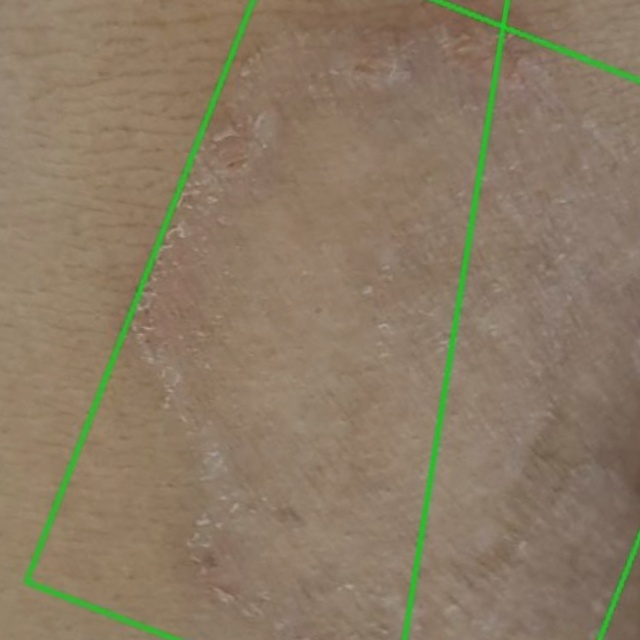Tinea Corporis: (24, 0, 639, 639), (0, 0, 506, 639)
